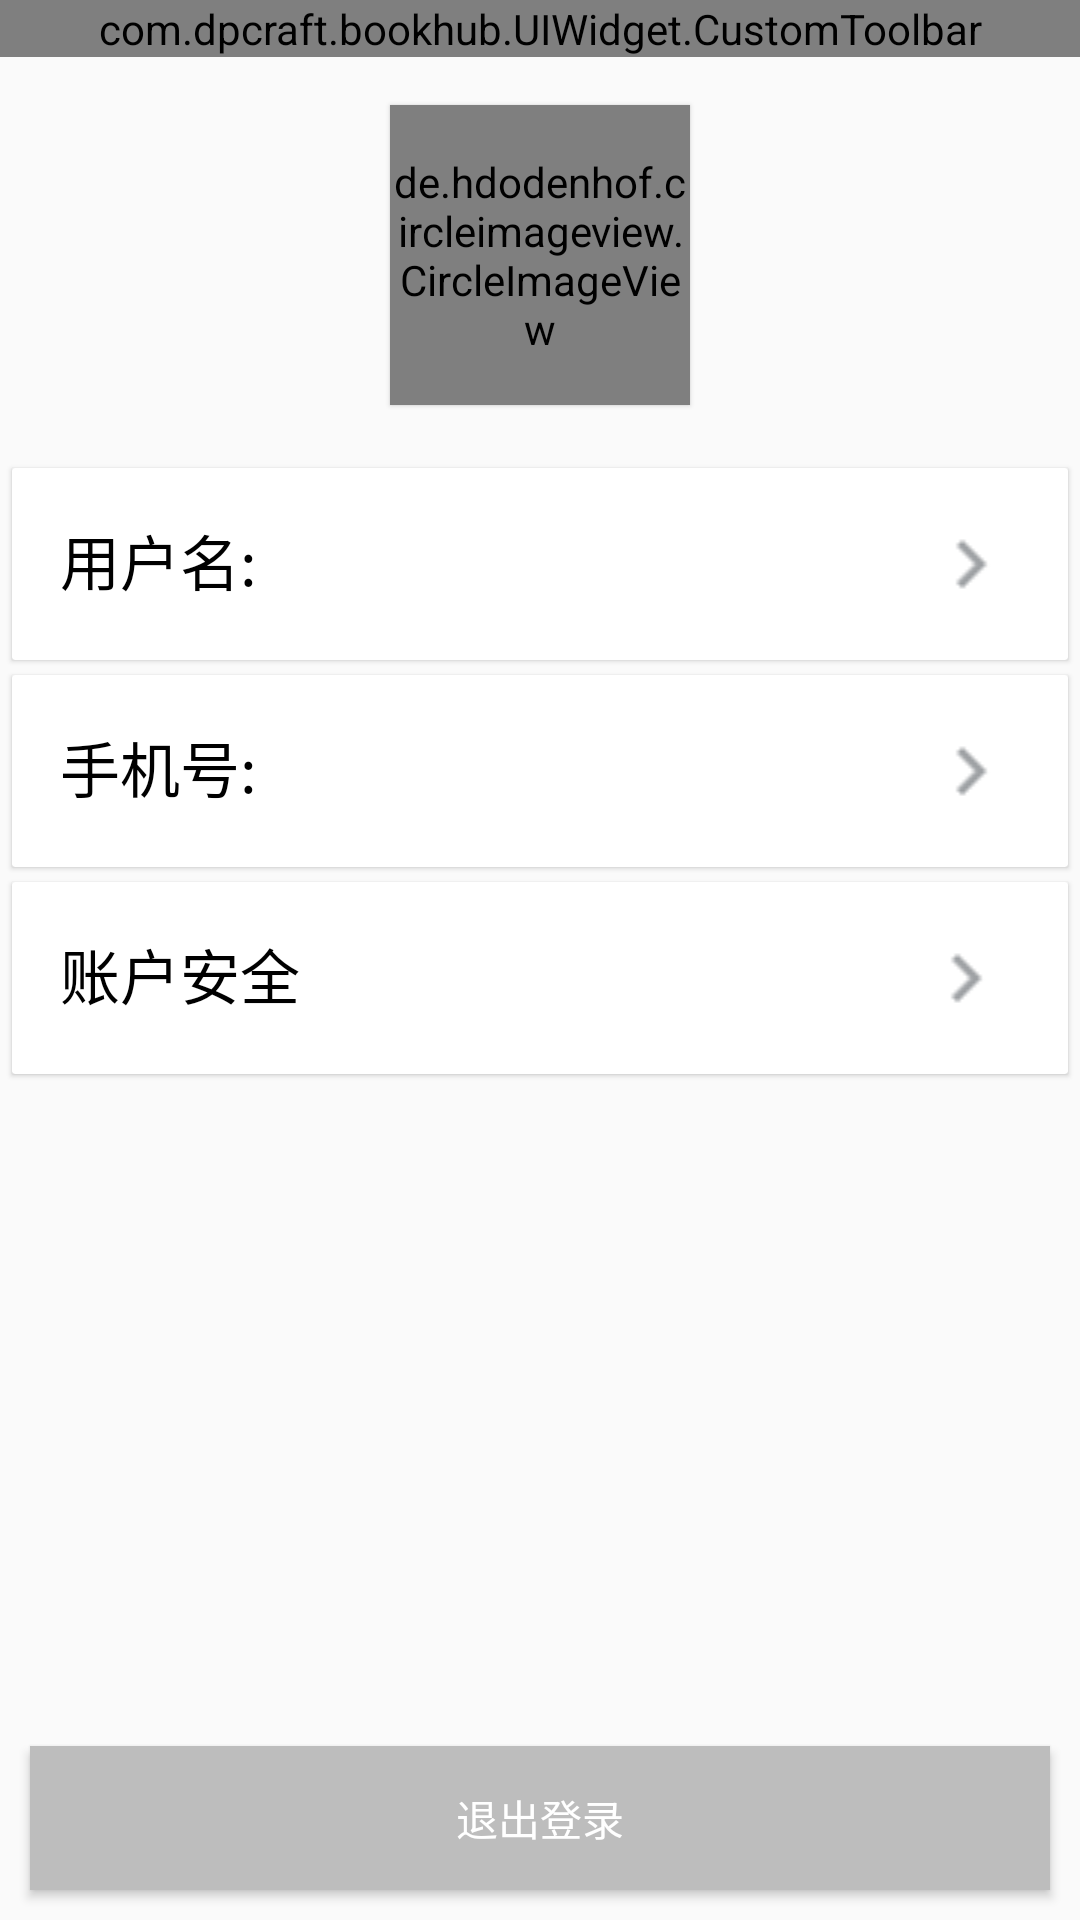

Icon bounding boxes for this 1080px×1920px phone screenshot, format (x1, y1, x2, y2):
right arrow: (956, 540, 987, 588), (956, 747, 987, 795), (951, 954, 982, 1002)
